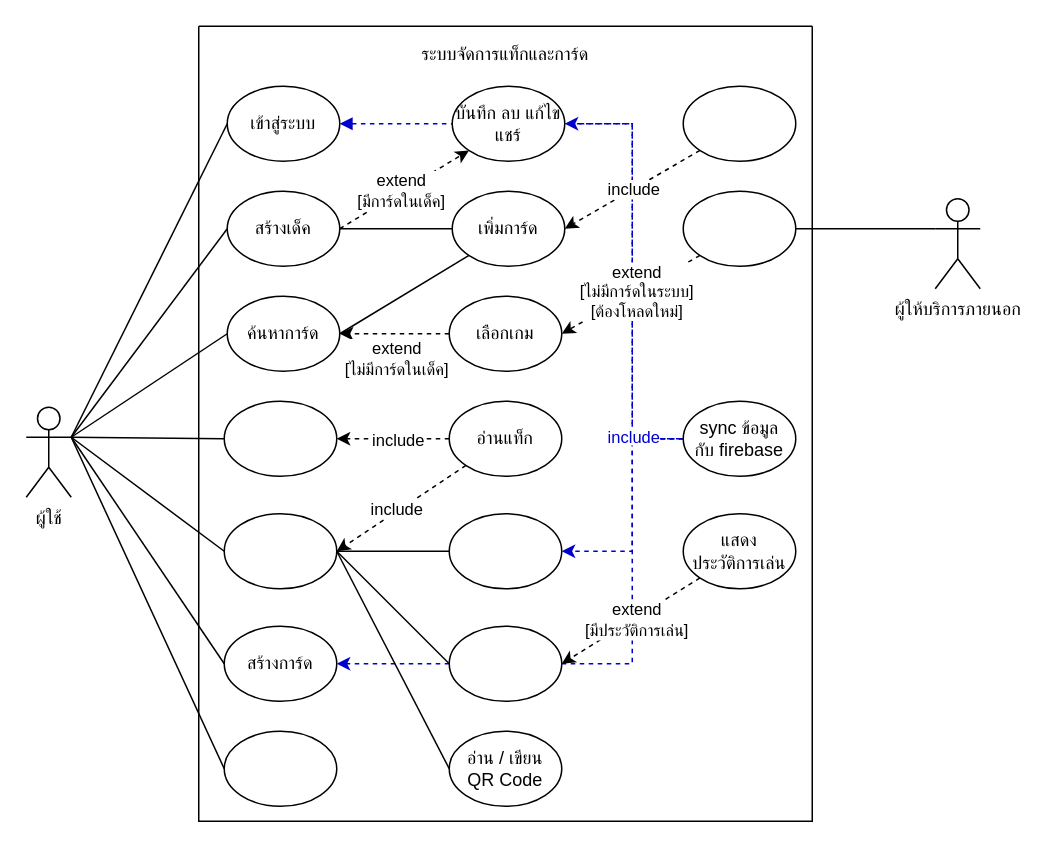
The diagram is 1047 pixels wide and 848 high, and some of its shapes have lost their labels. Each missing label, with the centre of its shape:
ตรวจสอบแท็ก: point (280, 438)
ตั้งค่าแอป: point (280, 768)
ติดตามการ์ด: point (280, 550)
บันทึก ประวัติการเล่น: point (505, 550)
เขียนแท็ก: point (739, 123)
แสดงสถิติ การเล่น: point (505, 663)
โหลดการ์ดจาก API: point (739, 228)
